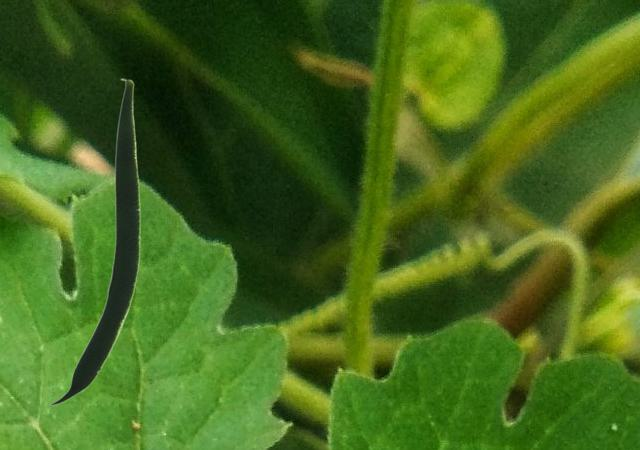french_bean: (49, 78, 139, 404)
